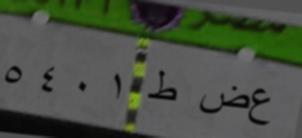0: (72, 76, 92, 99)
1: (107, 68, 126, 105)
4: (37, 65, 59, 100)
5: (1, 63, 26, 92)
Taa: (146, 68, 179, 108)
ain: (248, 80, 272, 130)
daad: (196, 80, 248, 118)
